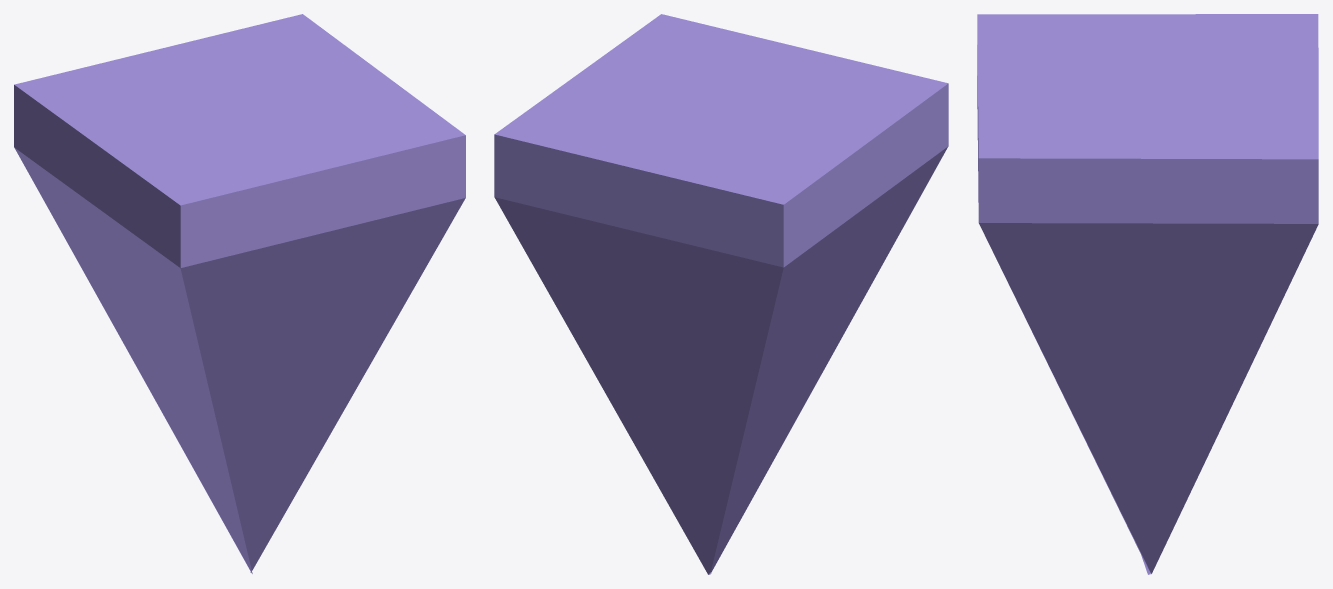
Rendered from ic_anchor.glb.
3 renders of one model, left to right at view 1: azimuth 30°, elevation 25°; view 2: azimuth 150°, elevation 25°; view 3: azimuth 270°, elevation 25°, orthographic. The views are drawn at different scales.
Parts seen in each view (by area): view 1: Cube; view 2: Cube; view 3: Cube.
Part boxes in pixels (x1,y1,x2,y2): Cube: (14, 14, 465, 573); Cube: (494, 14, 948, 574); Cube: (977, 14, 1318, 574).
Size of the model in its own units: 0.0792 by 0.1226 by 0.0787.
